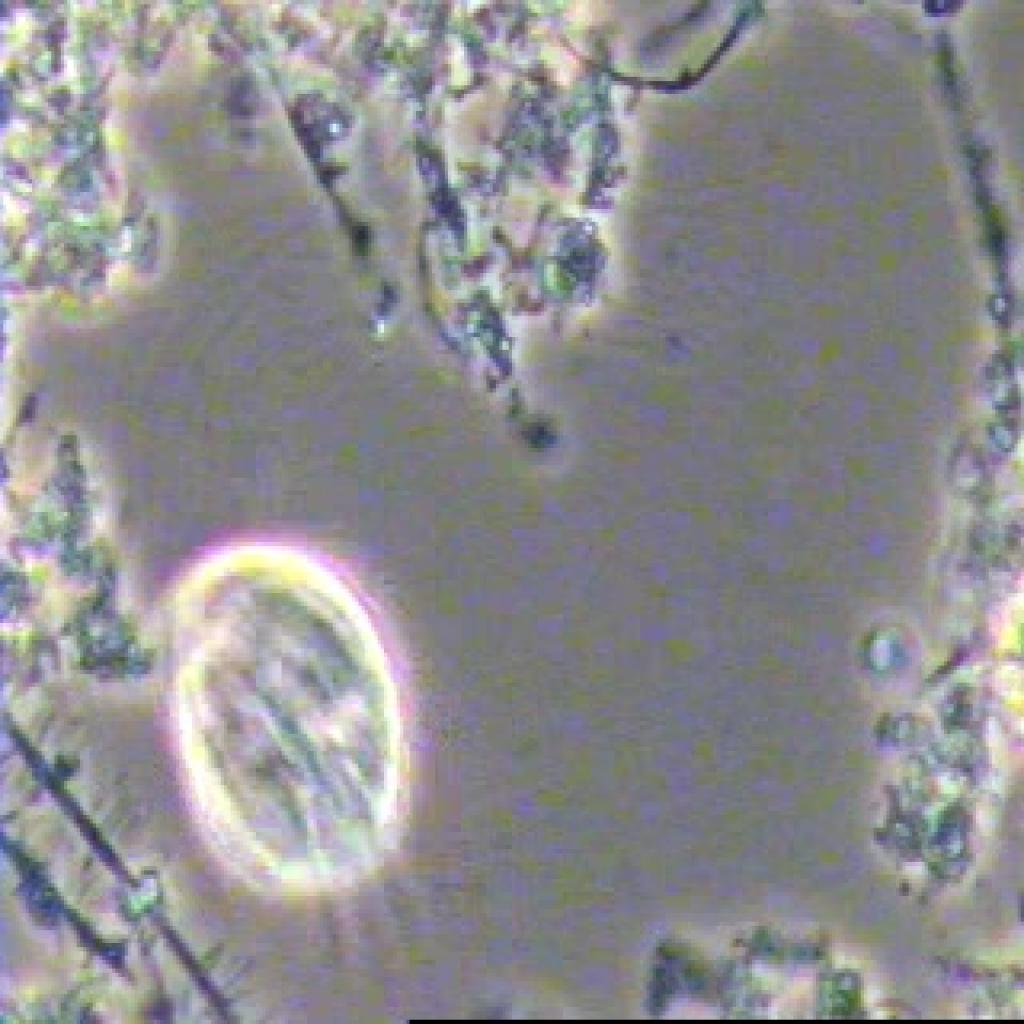Aspidisca: (134, 523, 468, 975)
